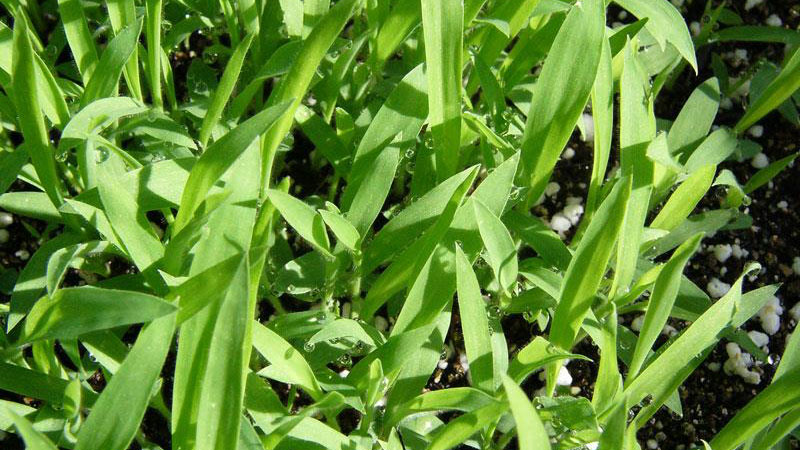crabgrass: (40, 65, 684, 450)
